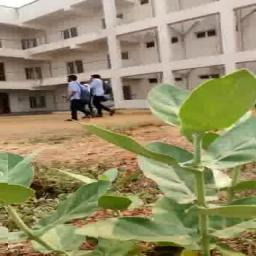Calotropis: (90, 78, 255, 248), (8, 137, 99, 251)
